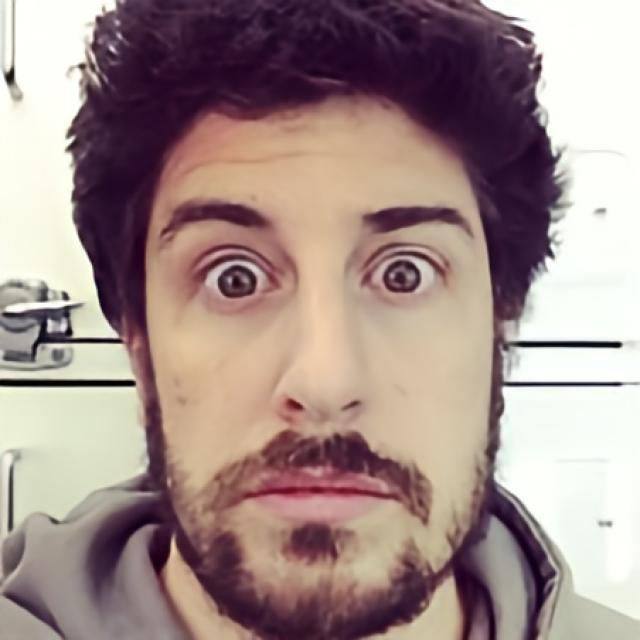surprise: (146, 70, 492, 628)
